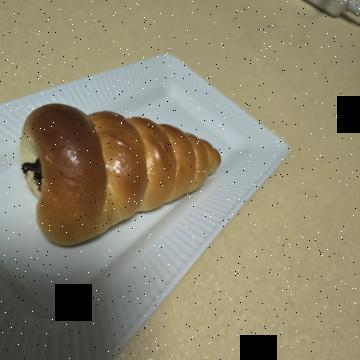cream horn: (83, 130, 262, 356)
